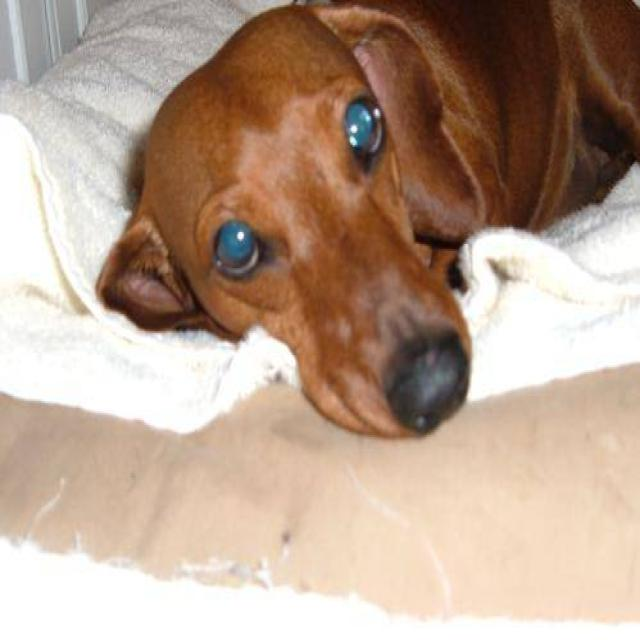Dog: (91, 2, 510, 453)
